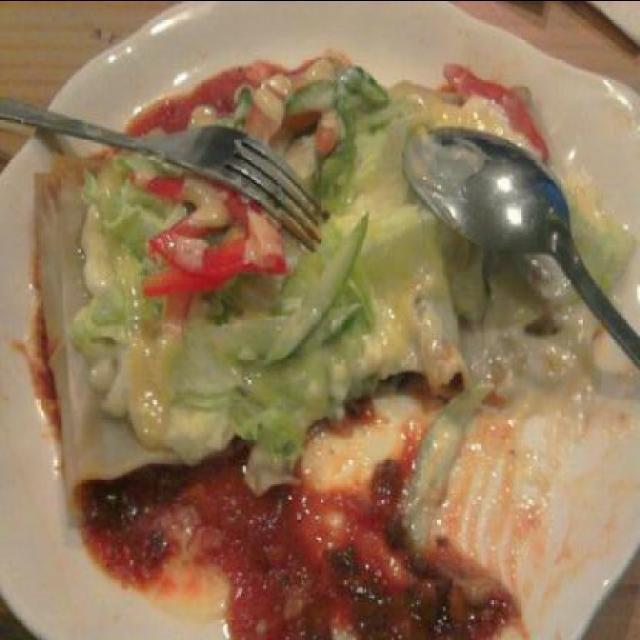Lasagna: (193, 390, 564, 627)
